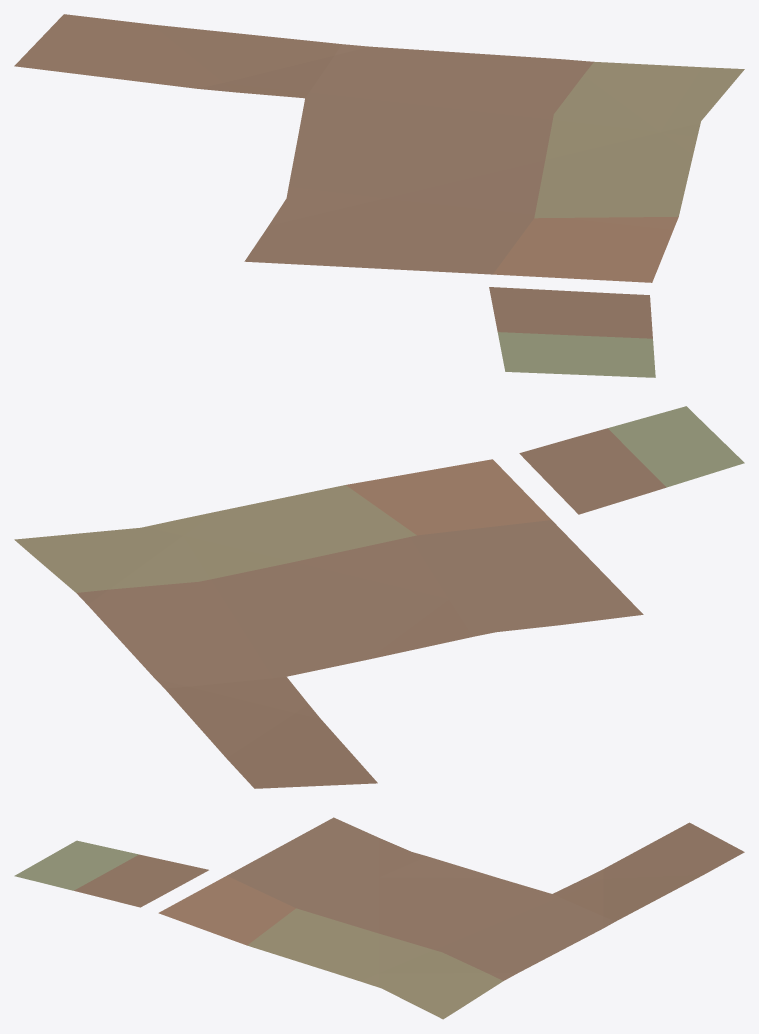
Rendered from farm_-9_-2_soil.glb.
3 views of the same model, one above another, from view 1: azimuth 30°, elevation 25°; view 2: azimuth 150°, elevation 25°; view 3: azimuth 270°, elevation 25° (orthographic). The views are drawn at different scales.
Parts seen in each view (by area): view 1: geometry_0; view 2: geometry_0; view 3: geometry_0.
Boxes of the visible parts, box(x1,y1,x2,y2) form: geometry_0: box(14, 14, 744, 377); geometry_0: box(14, 406, 744, 788); geometry_0: box(14, 817, 744, 1019).
Bounding box in the file's own units: 167 × 3.21 × 261.
